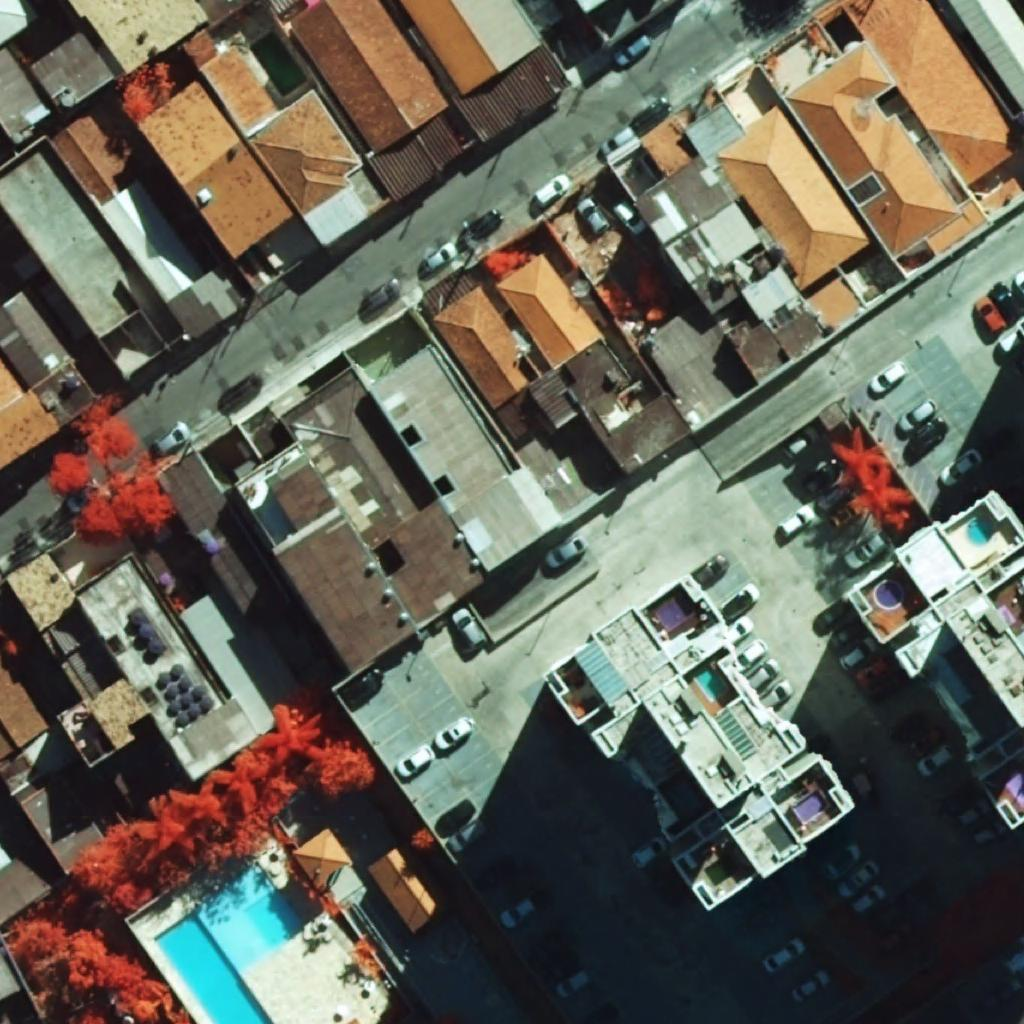pool: (155, 862, 307, 1024), (250, 32, 306, 96), (656, 592, 695, 629), (693, 664, 726, 700), (794, 790, 828, 823), (876, 582, 901, 607), (967, 520, 993, 544)
